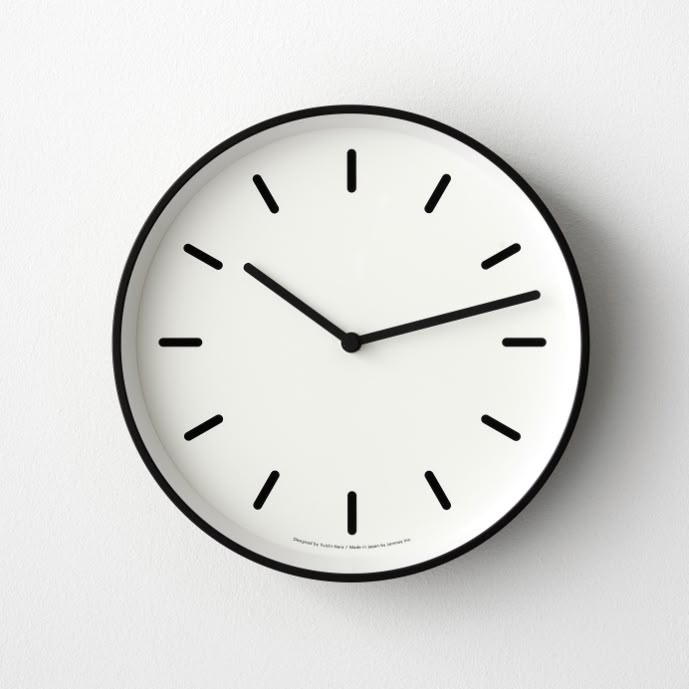clock: (33, 17, 689, 689)
